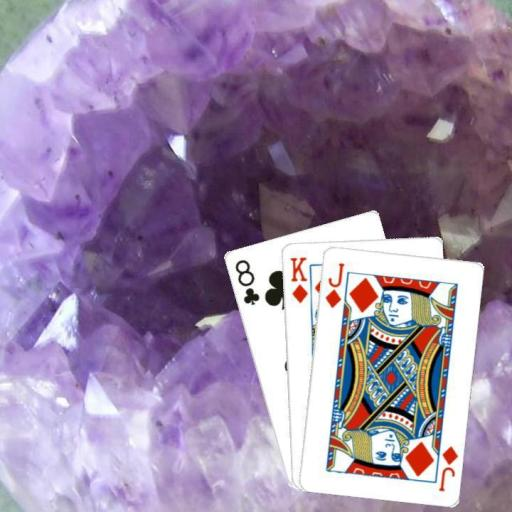card-corner: (231, 256, 261, 306), (436, 442, 460, 493), (286, 254, 310, 304), (322, 260, 346, 310)
